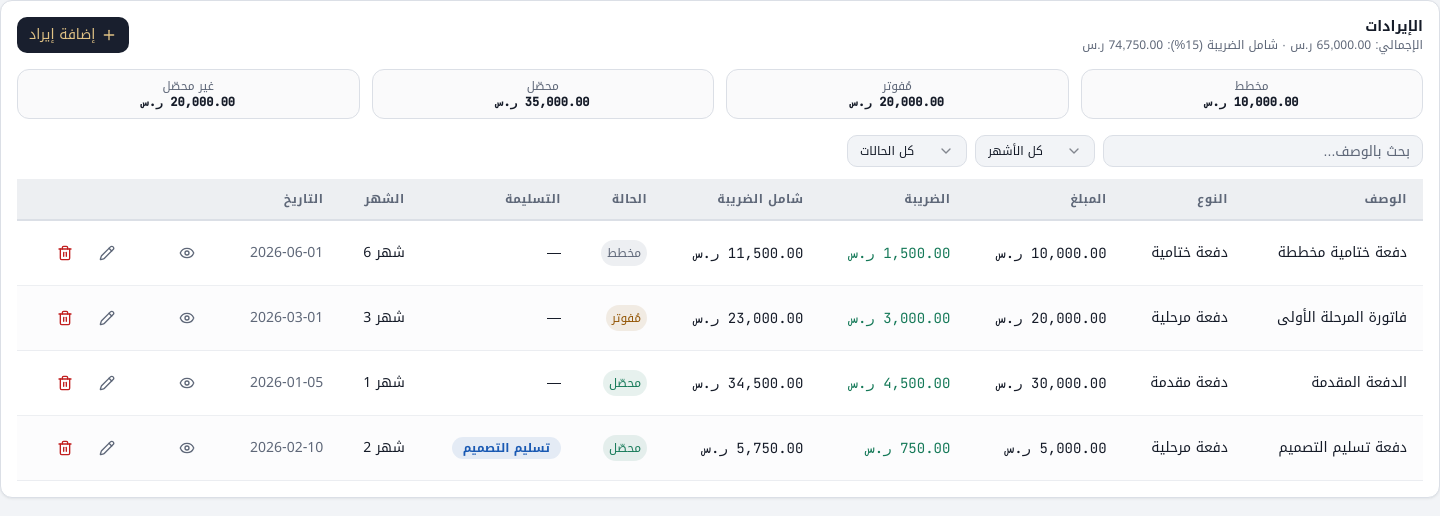
finding a revenue › narrows the table by description and says how many matched
The image size is (1440, 516).
Type "المرحلة" into the field with placeholder "بحث بالوصف..." at [1263, 151], box [1103, 135, 1423, 167]
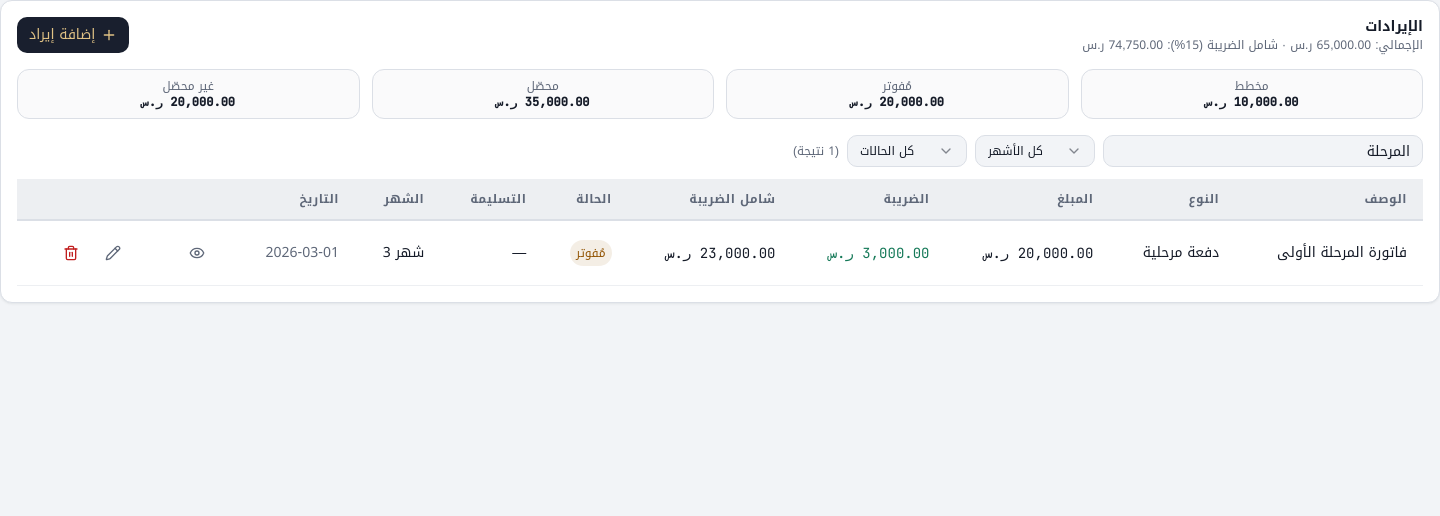
Expected: the text "فاتورة المرحلة الأولى" is shown, [1235, 220, 1423, 286]
Expected: the text "الدفعة المقدمة" is gone
Expected: the text "(1 نتيجة)" is shown, [793, 143, 839, 159]
